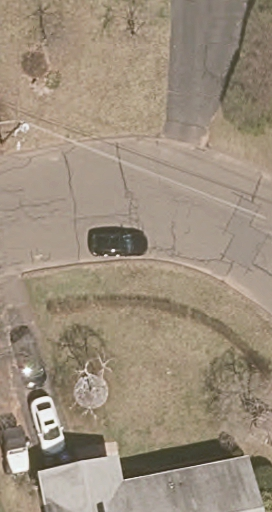DT: (1, 120, 30, 152)
